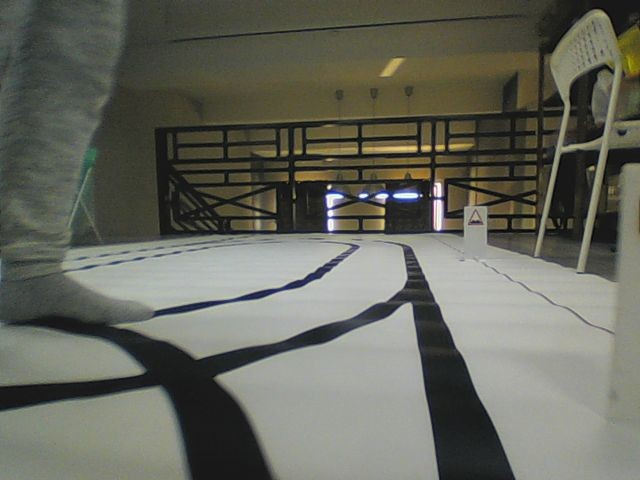Nerov: (467, 208, 484, 226)
